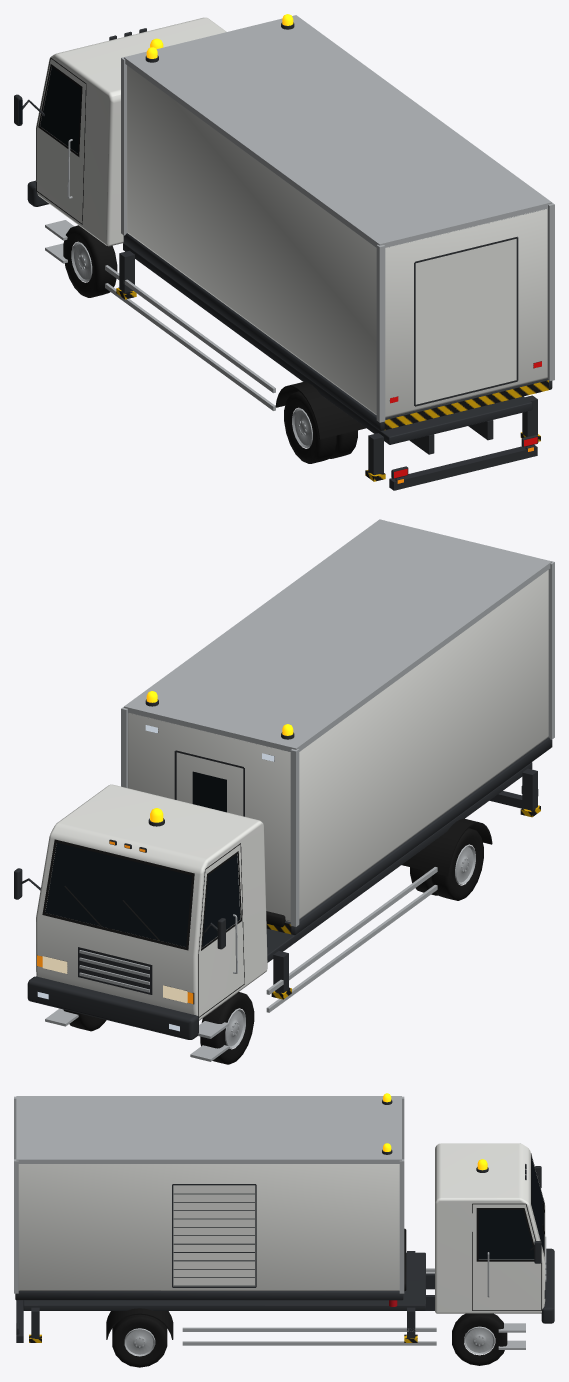
The model's file is catering_truck.glb.
The picture shows the model from 3 angles, top to bottom: view 1: azimuth 30°, elevation 25°; view 2: azimuth 150°, elevation 25°; view 3: azimuth 270°, elevation 25°; orthographic projection. The views are drawn at different scales.
Parts seen in each view (by area): view 1: Lift, Body, Wheels; view 2: Lift, Body, Wheels; view 3: Lift, Body, Wheels.
Part boxes in pixels (x1,y1,x2,y2): Lift: (121, 14, 554, 430); Body: (14, 17, 540, 490); Wheels: (63, 225, 357, 463); Lift: (121, 519, 554, 935); Body: (14, 762, 540, 1061); Wheels: (63, 828, 483, 1064); Lift: (14, 1093, 406, 1300); Body: (16, 1143, 554, 1349); Wheels: (112, 1313, 507, 1367).
Size of what is drawn, in the model's own units: 3.05 by 4.05 by 9.07.
9 materials, 3 textured.
